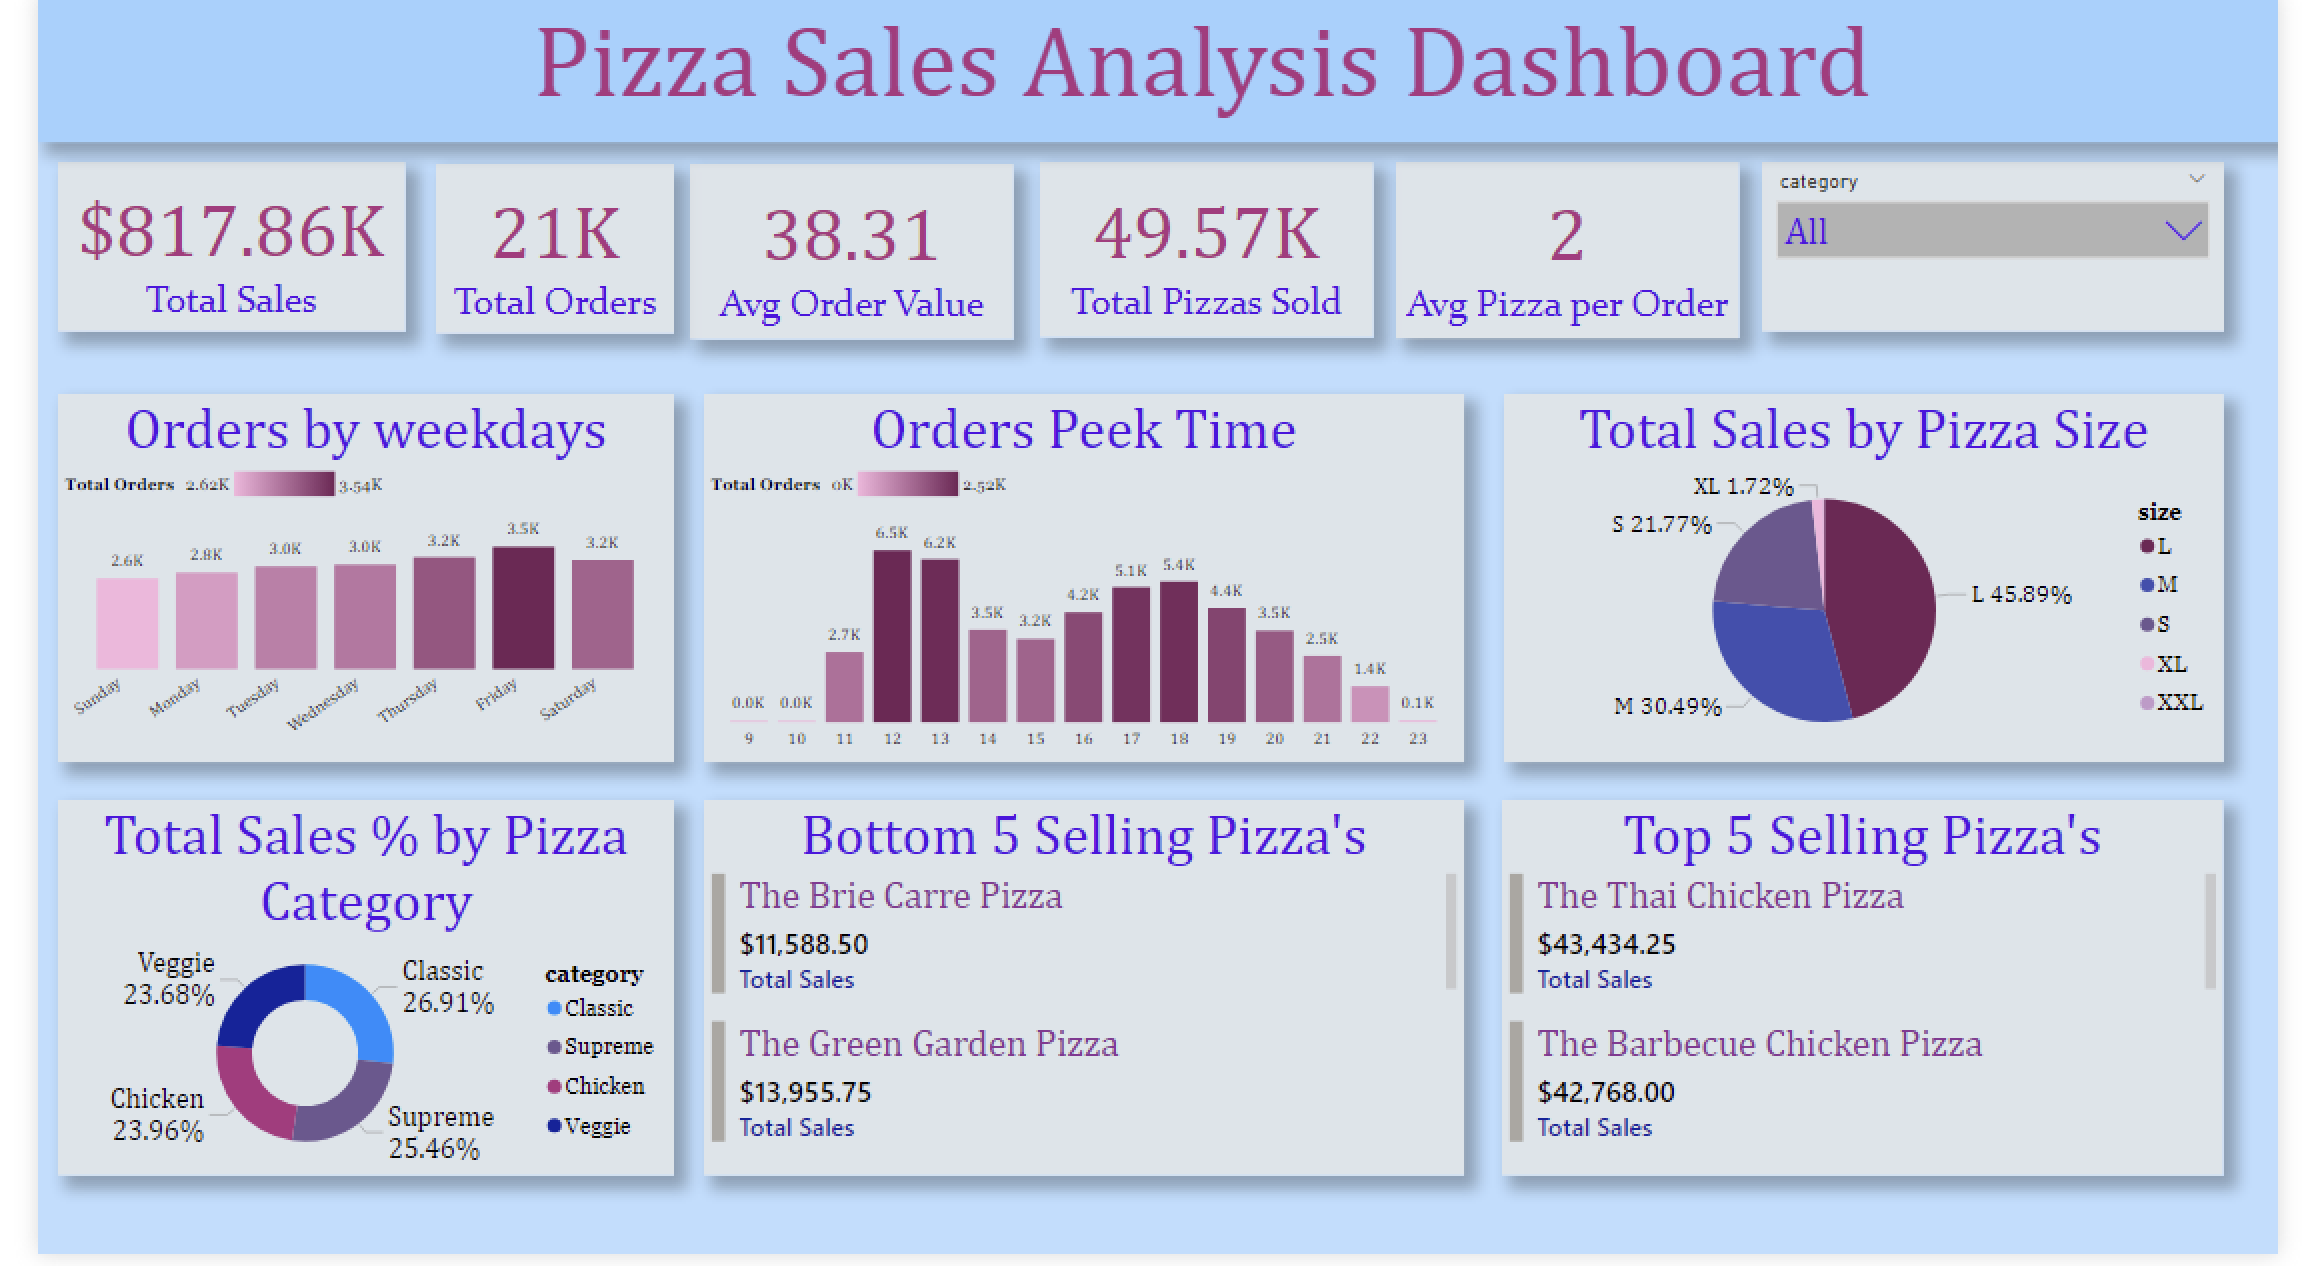

What the dashboard file says about the page in this screenshot:
{"tool":"powerbi","page":{"name":"Page 1","canvas":[1600,900],"ordinal":0},"visuals":[{"type":"card","title":"Total Sales","fields":{"Values":["pizzas.Total_sales"]},"box":[13.8,120,247.5,121.2],"z":0},{"type":"card","fields":{"Values":["orders.Total_orders"]},"box":[283.8,121.2,170,121.2],"z":1000},{"type":"card","fields":{"Values":["order_details.Avg_Order Value"]},"box":[466.2,121.2,231.2,125],"z":2000},{"type":"card","fields":{"Values":["order_details.Total Pizzas Sold"]},"box":[716.2,120,237.5,125],"z":3000},{"type":"card","fields":{"Values":["order_details.Avg_Pizza per Order"]},"box":[970,120,245,126.2],"z":4000},{"type":"slicer","fields":{"Values":["pizza_types.category"]},"box":[1231.2,120,330,121.2],"z":5000},{"type":"clusteredColumnChart","title":"Orders by weekdays","fields":{"Y":["orders.Total_orders"],"Category":["orders.Day Name"]},"box":[13.8,286.2,440,262.5],"z":6000},{"type":"donutChart","title":"Total Sales % by Pizza Category","fields":{"Category":["pizza_types.category"],"Series":["pizza_types.category"],"Y":["pizzas.Total Sales"]},"box":[13.8,575,440,267.5],"z":7000},{"type":"clusteredColumnChart","title":"Orders Peek Time","fields":{"Y":["CountNonNull(order_details.order_id)"],"Category":["orders.Hour"]},"box":[475,286.2,542.5,262.5],"z":8000},{"type":"multiRowCard","title":"Top 5 Selling Pizza''s","fields":{"Values":["pizzas.Total_sales","pizza_types.name"]},"box":[1046.2,575,515,267.5],"z":9000},{"type":"multiRowCard","title":"Bottom 5 Selling Pizza''s","fields":{"Values":["pizzas.Total_sales","pizza_types.name"]},"box":[475,575,542.5,267.5],"z":10000},{"type":"pieChart","title":"Total Sales by Pizza Size","fields":{"Category":["pizzas.size"],"Y":["pizzas.Total_sales"]},"box":[1047.5,286.2,513.8,262.5],"z":11000},{"type":"textbox","box":[0,0,1600,106.2],"z":12000}]}

Visuals, with their boxes on the page's 1600x900 design canvas (x1, y1, x2, y2). These are canvas units, not pixel positions in the 2324x1266 screenshot, which may show the page scaled, cropped or inside an application window:
"Total Sales" card: {"left": 14, "top": 120, "right": 261, "bottom": 241}
card - orders.Total_orders: {"left": 284, "top": 121, "right": 454, "bottom": 242}
card - order_details.Avg_Order Value: {"left": 466, "top": 121, "right": 697, "bottom": 246}
card - order_details.Total Pizzas Sold: {"left": 716, "top": 120, "right": 954, "bottom": 245}
card - order_details.Avg_Pizza per Order: {"left": 970, "top": 120, "right": 1215, "bottom": 246}
slicer - pizza_types.category: {"left": 1231, "top": 120, "right": 1561, "bottom": 241}
"Orders by weekdays" clusteredColumnChart: {"left": 14, "top": 286, "right": 454, "bottom": 549}
"Total Sales % by Pizza Category" donutChart: {"left": 14, "top": 575, "right": 454, "bottom": 842}
"Orders Peek Time" clusteredColumnChart: {"left": 475, "top": 286, "right": 1018, "bottom": 549}
"Top 5 Selling Pizza''s" multiRowCard: {"left": 1046, "top": 575, "right": 1561, "bottom": 842}
"Bottom 5 Selling Pizza''s" multiRowCard: {"left": 475, "top": 575, "right": 1018, "bottom": 842}
"Total Sales by Pizza Size" pieChart: {"left": 1048, "top": 286, "right": 1561, "bottom": 549}
textbox: {"left": 0, "top": 0, "right": 1600, "bottom": 106}
